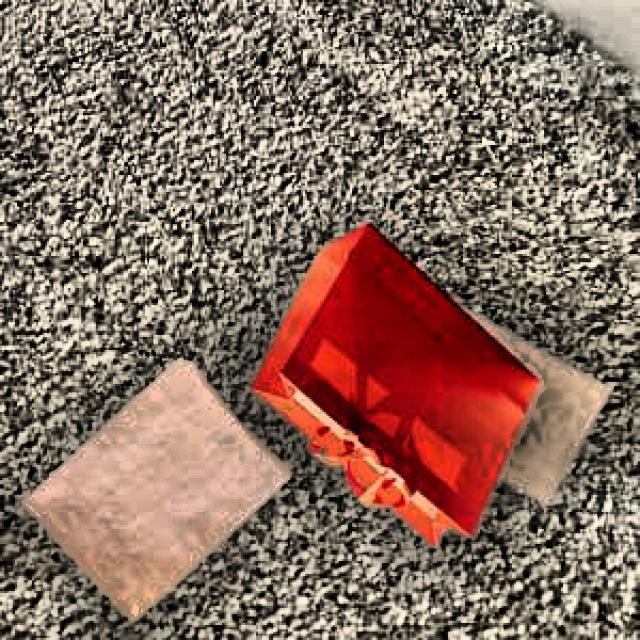Paper-bag: (242, 209, 544, 549), (18, 349, 298, 629), (354, 273, 623, 507)
